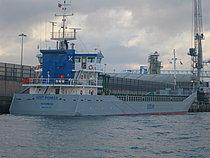Ship: (5, 8, 201, 121)
